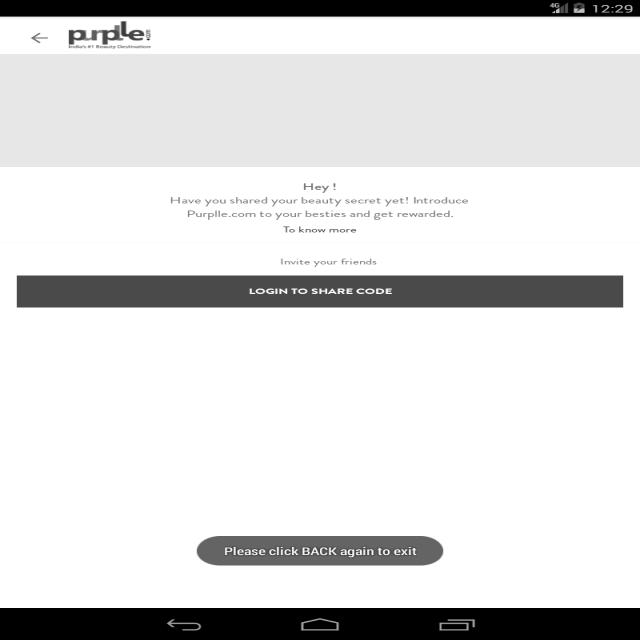Button: (13, 272, 628, 311)
ImageButton: (23, 27, 54, 48)
ImageView: (63, 18, 157, 52)
TextView: (218, 541, 420, 561)
